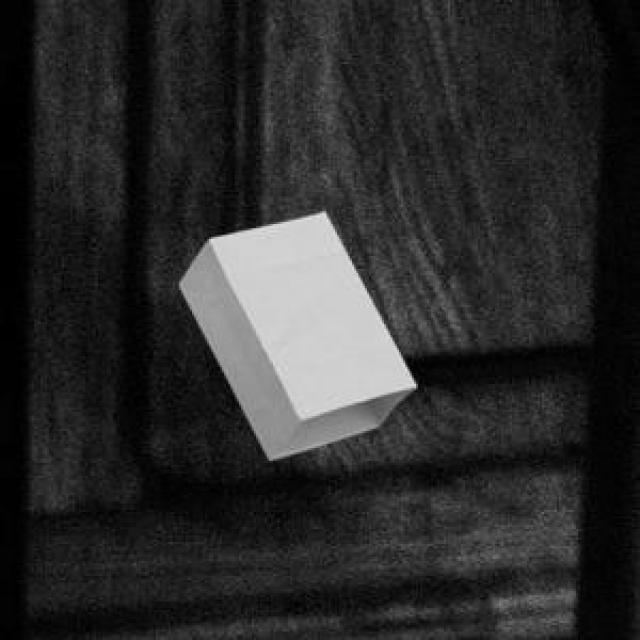paper: (175, 209, 412, 457)
